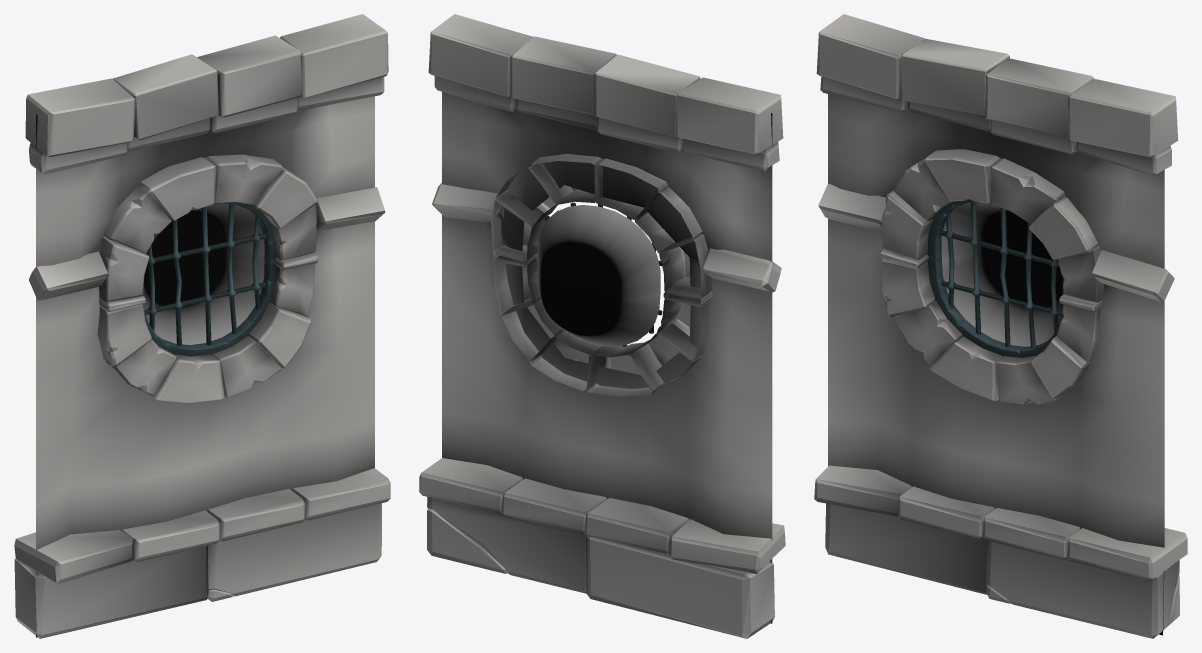
File: wall_window_A.FBX
The picture shows the model from 3 angles, left to right: view 1: azimuth 30°, elevation 25°; view 2: azimuth 150°, elevation 25°; view 3: azimuth 330°, elevation 25°; orthographic projection. The views are drawn at different scales.
Parts seen in each view (by area): view 1: wall_window_A; view 2: wall_window_A; view 3: wall_window_A.
Boxes of the visible parts, x1,y1,x2,y2 form: wall_window_A: (14, 14, 390, 638); wall_window_A: (419, 14, 785, 638); wall_window_A: (814, 14, 1187, 638).
Size of the model in its own units: 4.1 by 6.04 by 0.8625.
